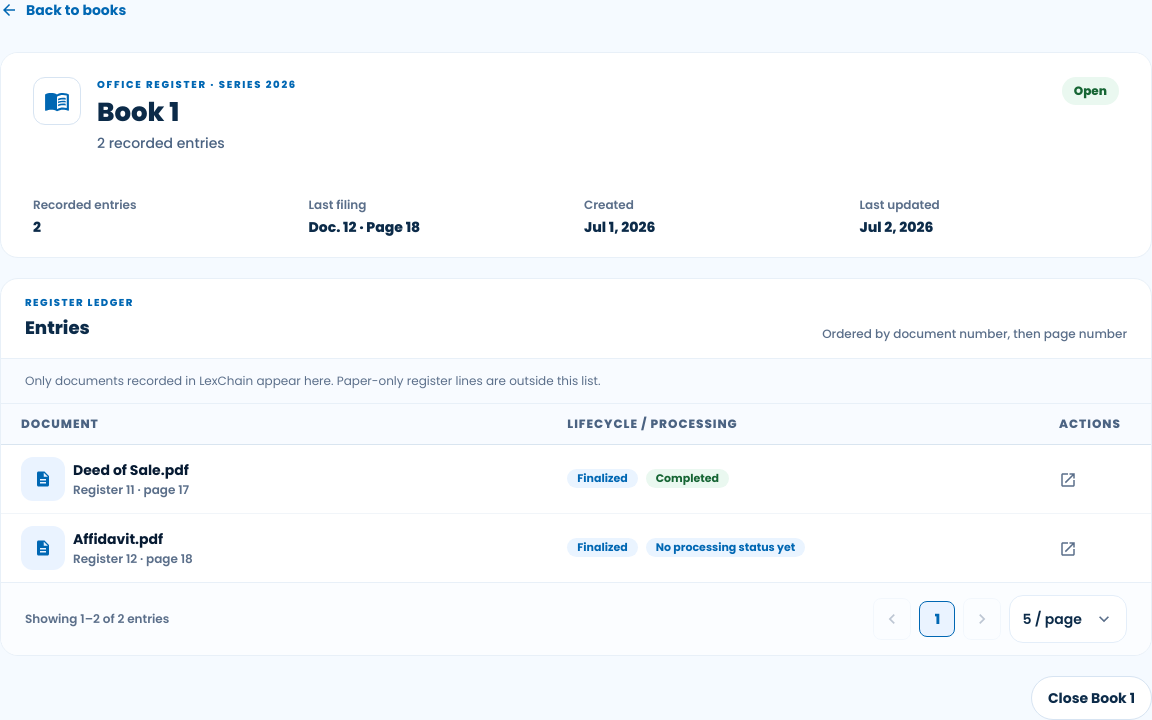
Test: BookRoutePage › refreshes the book after a close conflict and shows the server state
(page scrolled)
Click the button "Close Book 1".
click(1091, 698)  # box [1031,676,1151,719]
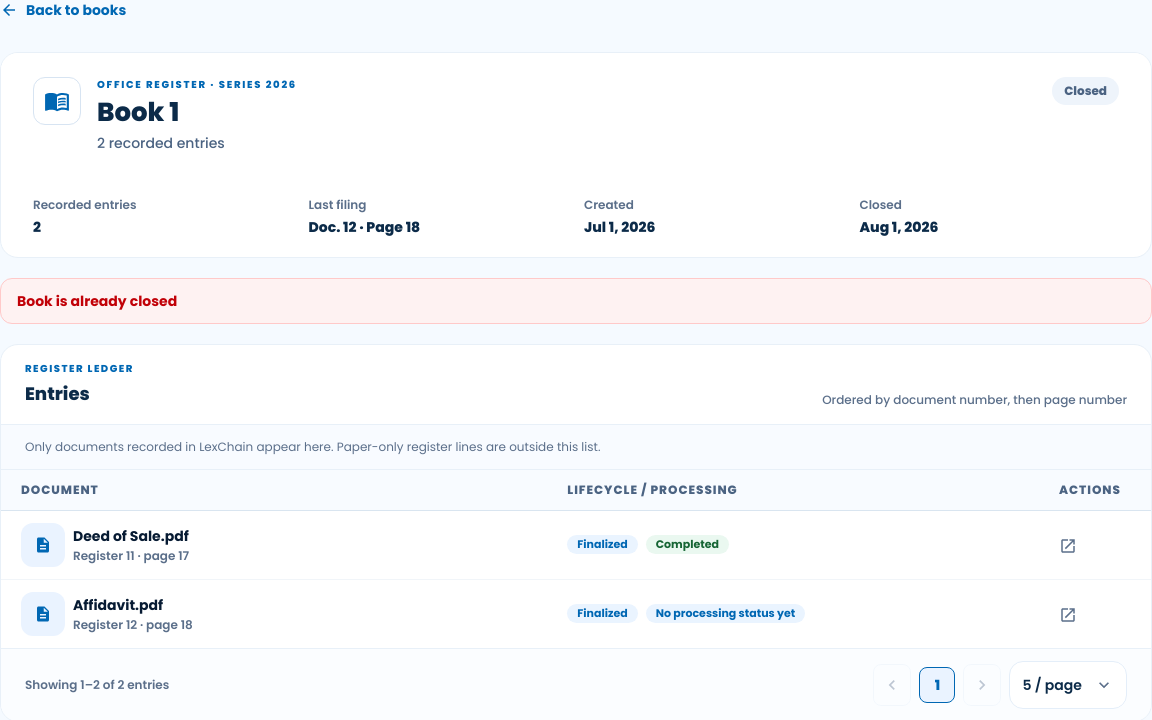
Check: the message "Book is already closed" is shown, box [0,278,1151,324]
Check: the text "Closed" in the row of "Office register · Series" is shown, box [1064,82,1107,99]
Check: the button "Close Book 1" is gone
